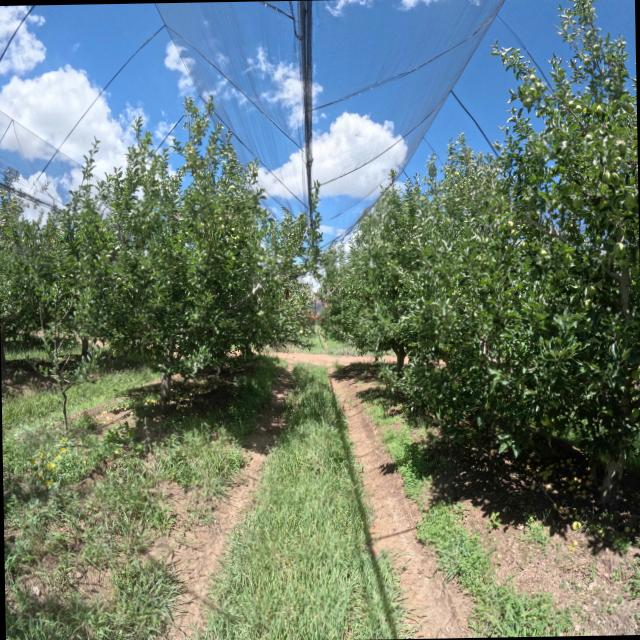-FireBlight-: (305, 308, 324, 323), (311, 295, 329, 308), (284, 286, 289, 300)
